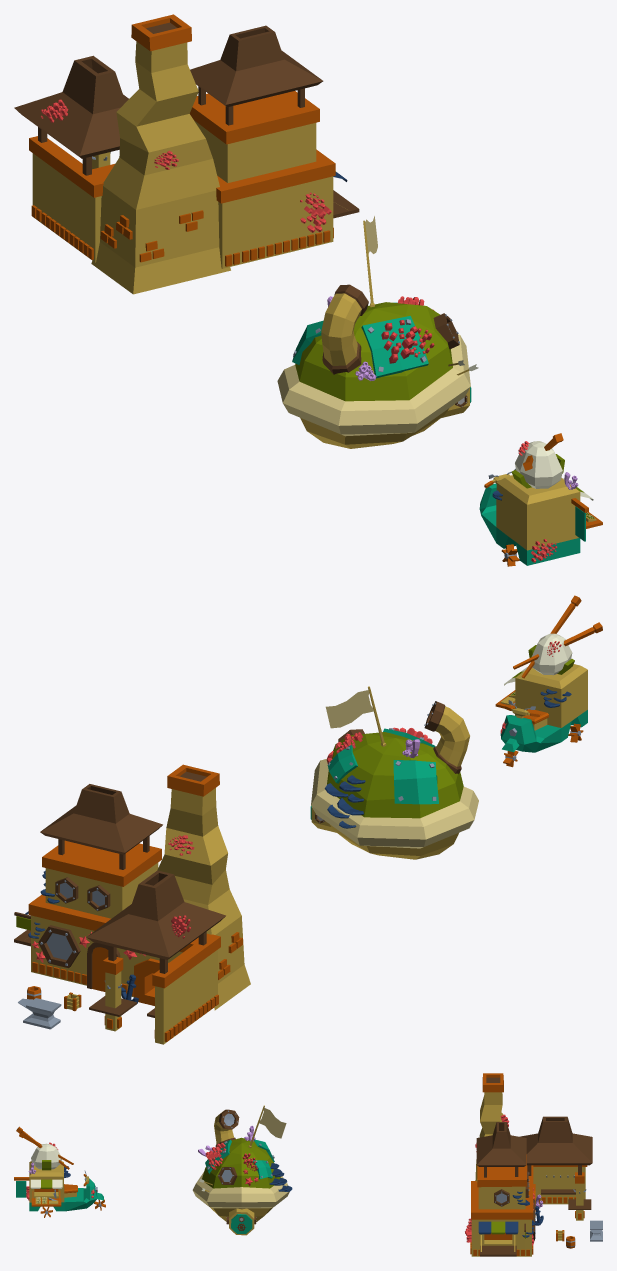
File: huisjes_npc.fbx
3 views of the same model, one above another, from view 1: azimuth 30°, elevation 25°; view 2: azimuth 150°, elevation 25°; view 3: azimuth 270°, elevation 25° (orthographic). The views are drawn at different scales.
Parts seen in each view (by area): view 1: smid, schildpadschild, foodtruck; view 2: smid, schildpadschild, foodtruck, aambeeld; view 3: smid, schildpadschild, foodtruck, aambeeld.
Part boxes in pixels (left/top/right/bottom): smid: left=14, top=14, right=359, bottom=294; schildpadschild: left=277, top=216, right=478, bottom=448; foodtruck: left=479, top=433, right=602, bottom=566; smid: left=14, top=764, right=250, bottom=1044; schildpadschild: left=310, top=686, right=478, bottom=859; foodtruck: left=495, top=595, right=602, bottom=767; aambeeld: left=18, top=998, right=61, bottom=1029; smid: left=465, top=1073, right=592, bottom=1256; schildpadschild: left=192, top=1105, right=292, bottom=1235; foodtruck: left=14, top=1126, right=105, bottom=1217; aambeeld: left=590, top=1220, right=602, bottom=1241.
Bounding box in the file's own units: 24.69 × 20.09 × 77.58.
